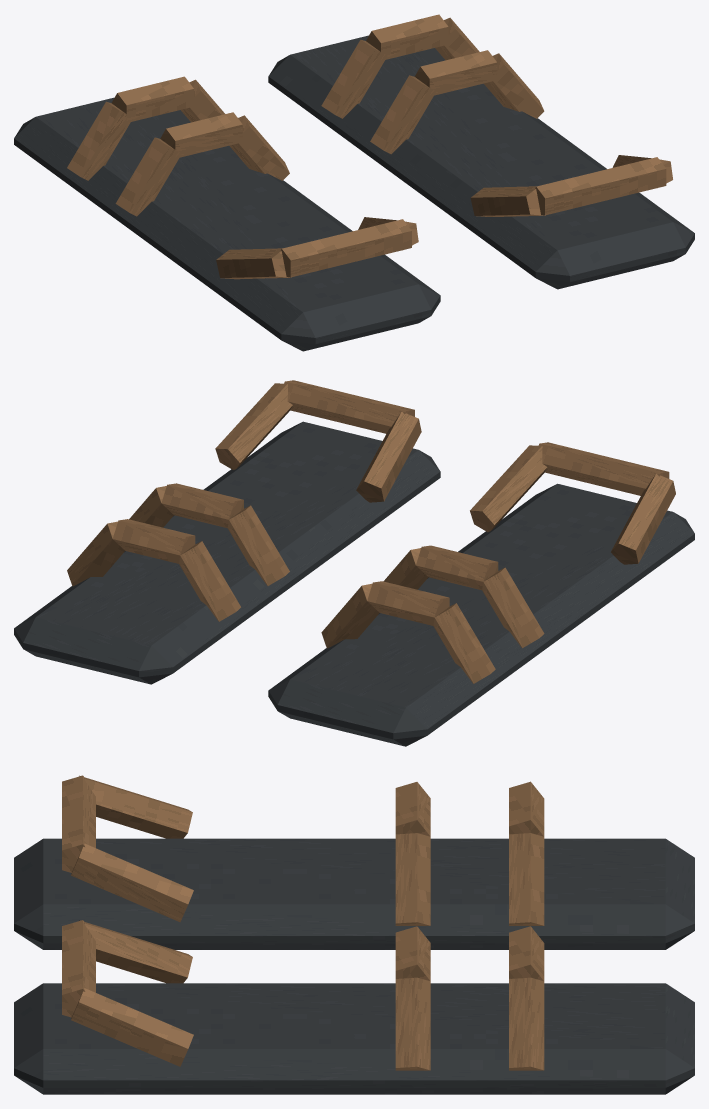
File: leathersandals.glb
3 views of the same model, one above another, from view 1: azimuth 30°, elevation 25°; view 2: azimuth 150°, elevation 25°; view 3: azimuth 270°, elevation 25° (orthographic). The views are drawn at different scales.
Visible parts, largest first — view 1: block_shaped sole (×2), block_woven strap 0 (×4), block_woven strap 1 (×4), block_heel strap 1 (×2), block_woven strap 2 (×4), block_heel strap 0 (×2); view 2: block_shaped sole (×2), block_woven strap 0 (×4), block_woven strap 1 (×4), block_heel strap 1 (×2), block_heel strap 2 (×2), block_heel strap 0 (×2), block_woven strap 2 (×4); view 3: block_shaped sole (×2), block_woven strap 2 (×4), block_heel strap 2 (×2), block_heel strap 0 (×2), block_woven strap 1 (×4), block_heel strap 1 (×2).
Part boxes in pixels (x1=…): block_shaped sole (×2): x1=14, y1=35, x2=694, y2=351; block_woven strap 0 (×4): x1=67, y1=39, x2=436, y2=216; block_woven strap 1 (×4): x1=111, y1=14, x2=497, y2=158; block_heel strap 1 (×2): x1=281, y1=157, x2=666, y2=277; block_woven strap 2 (×4): x1=181, y1=17, x2=544, y2=180; block_heel strap 0 (×2): x1=216, y1=186, x2=545, y2=279; block_shaped sole (×2): x1=14, y1=421, x2=694, y2=746; block_woven strap 0 (×4): x1=179, y1=505, x2=544, y2=683; block_woven strap 1 (×4): x1=112, y1=483, x2=498, y2=625; block_heel strap 1 (×2): x1=284, y1=380, x2=669, y2=495; block_heel strap 2 (×2): x1=215, y1=383, x2=547, y2=532; block_heel strap 0 (×2): x1=356, y1=411, x2=675, y2=564; block_woven strap 2 (×4): x1=67, y1=486, x2=428, y2=648; block_shaped sole (×2): x1=14, y1=838, x2=694, y2=1094; block_woven strap 2 (×4): x1=395, y1=833, x2=544, y2=1070; block_heel strap 2 (×2): x1=71, y1=843, x2=193, y2=1066; block_heel strap 0 (×2): x1=79, y1=775, x2=192, y2=983; block_woven strap 1 (×4): x1=395, y1=781, x2=544, y2=981; block_heel strap 1 (×2): x1=62, y1=775, x2=95, y2=1017.
Bounding box in the file's own units: 0.1529 × 0.0343 × 0.1827.
1 material, 1 textured.
